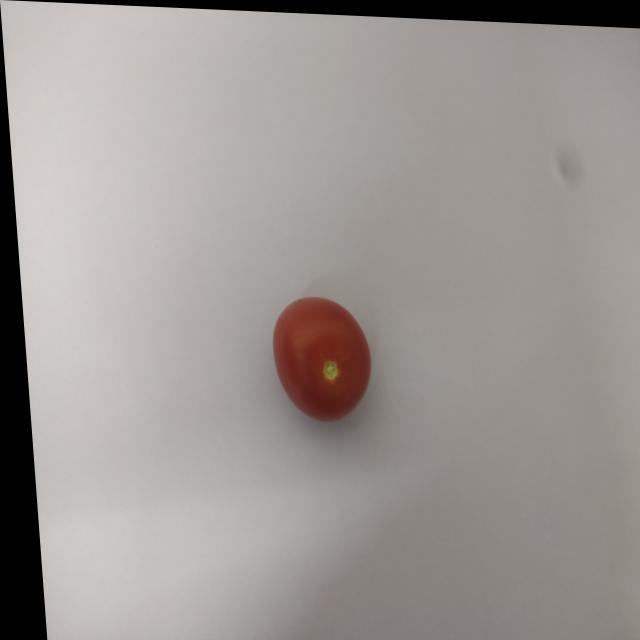kirmizi: (255, 283, 384, 427)
